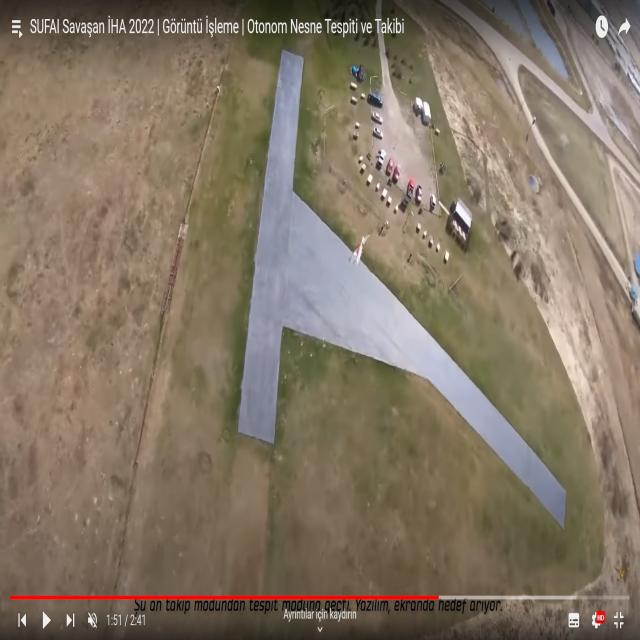iha: (348, 232, 373, 266)
